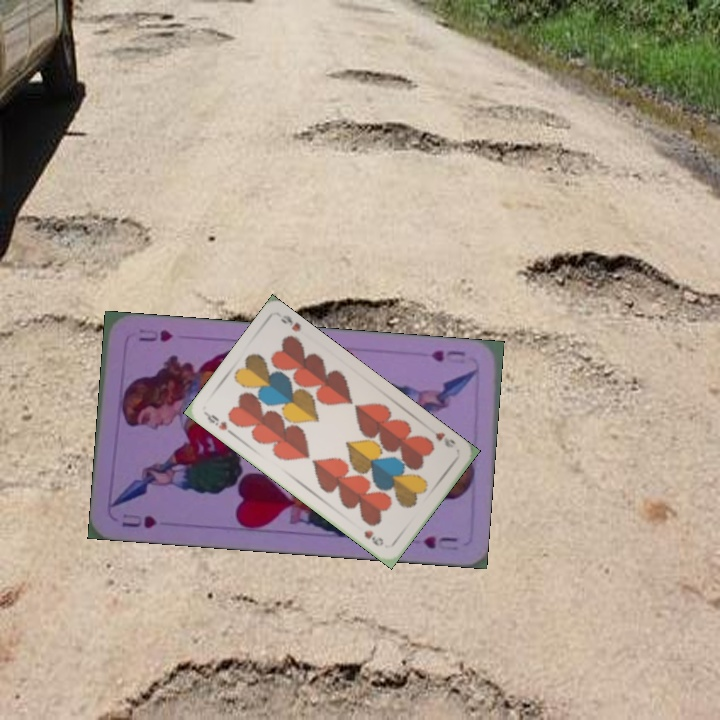H9: (201, 409, 230, 433), (431, 428, 458, 450)
HU: (117, 509, 160, 531), (427, 346, 468, 364)
